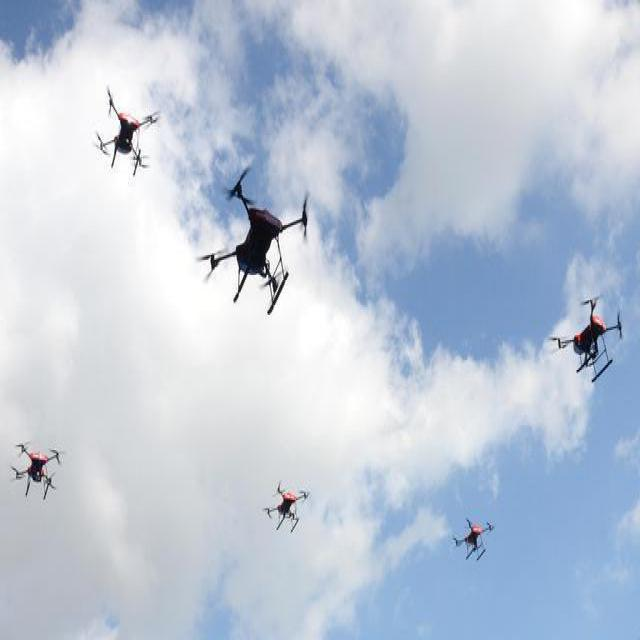UAV: (204, 173, 309, 317), (555, 290, 625, 380), (97, 90, 159, 175), (12, 440, 62, 505), (267, 480, 311, 535), (455, 514, 495, 564)
